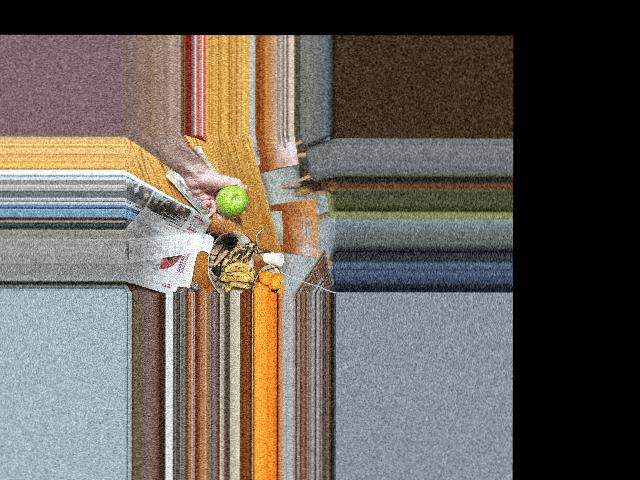apple: (212, 184, 253, 218)
